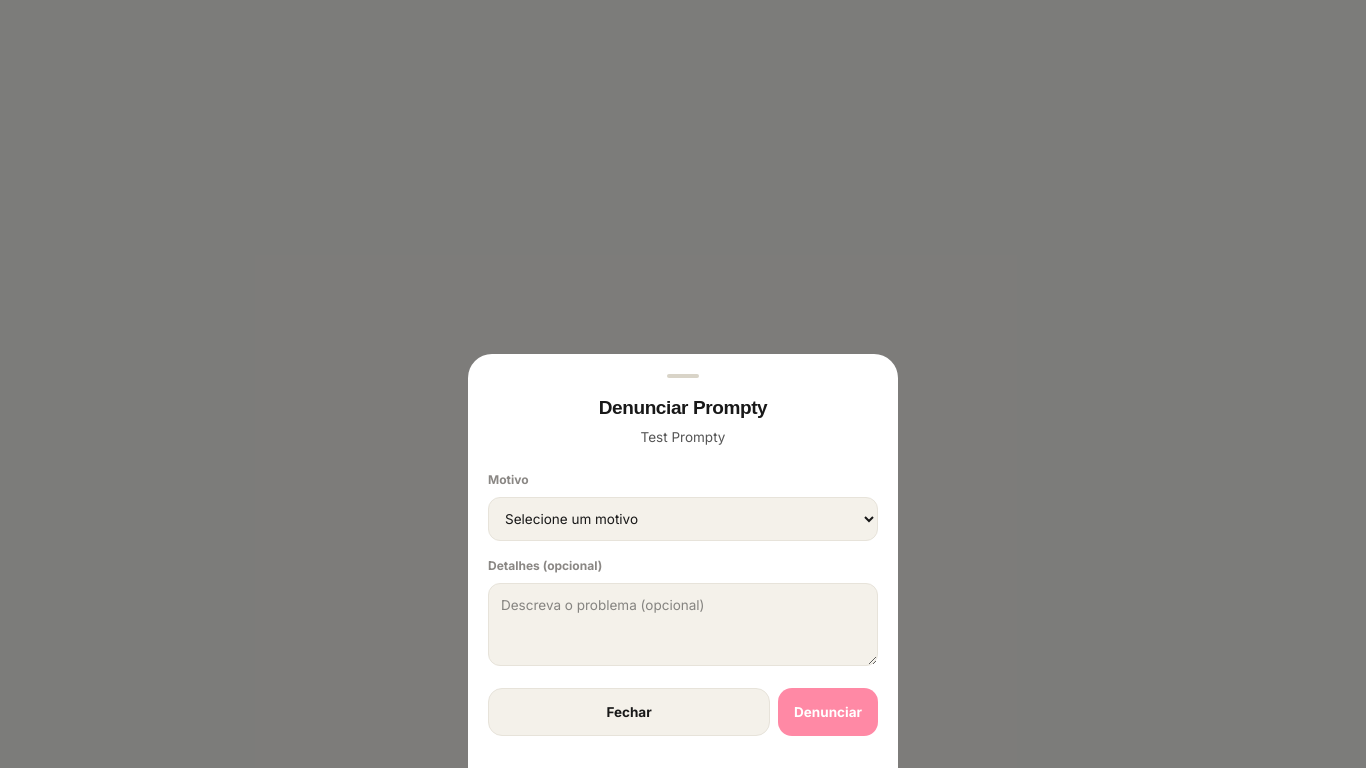
it: ReportSheet › 'Denunciar' button is disabled until reason is selected
Expected: the button "Denunciar" is disabled, [778,688,878,736]
Step 1. Select "Spam" in the dropdown named "motivo da denúncia" → (683, 519), box [488,497,878,541]
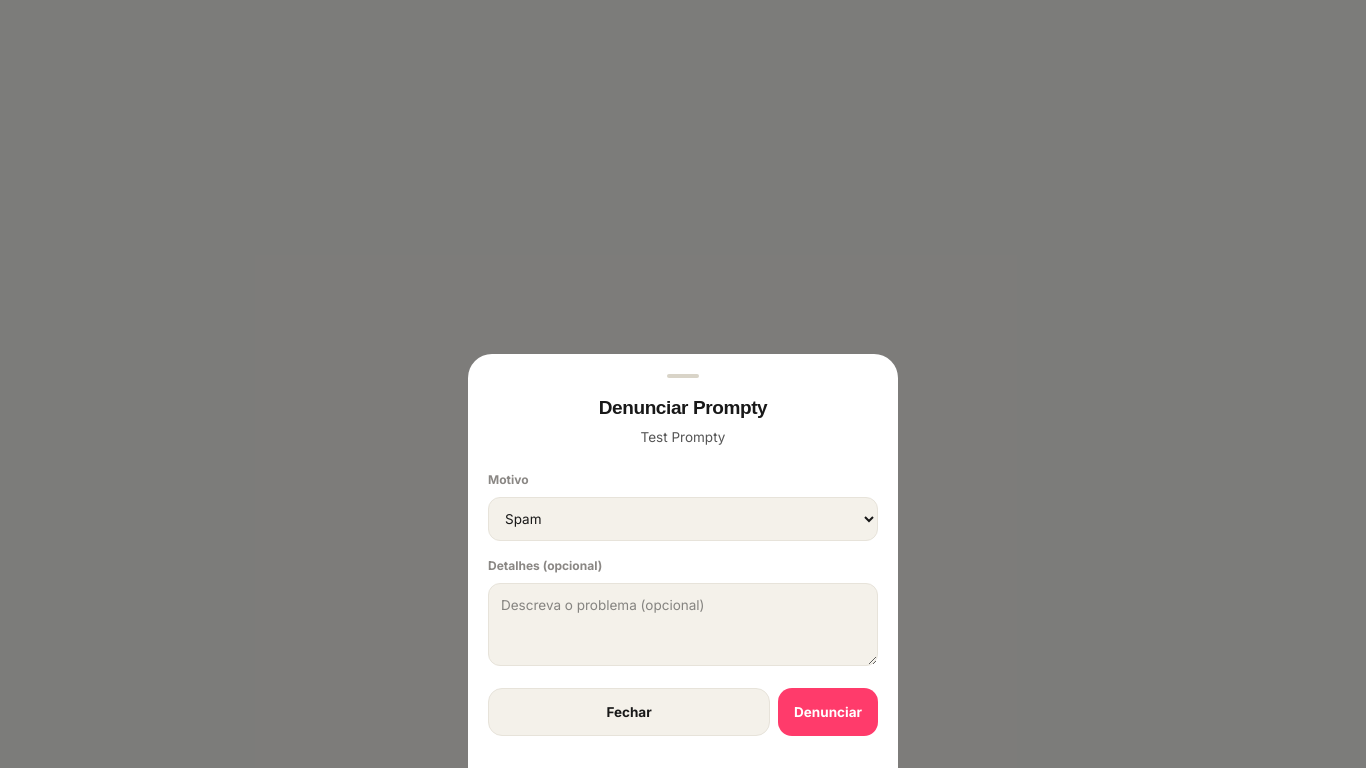
Expected: the button "Denunciar" is enabled, [778,688,878,736]
